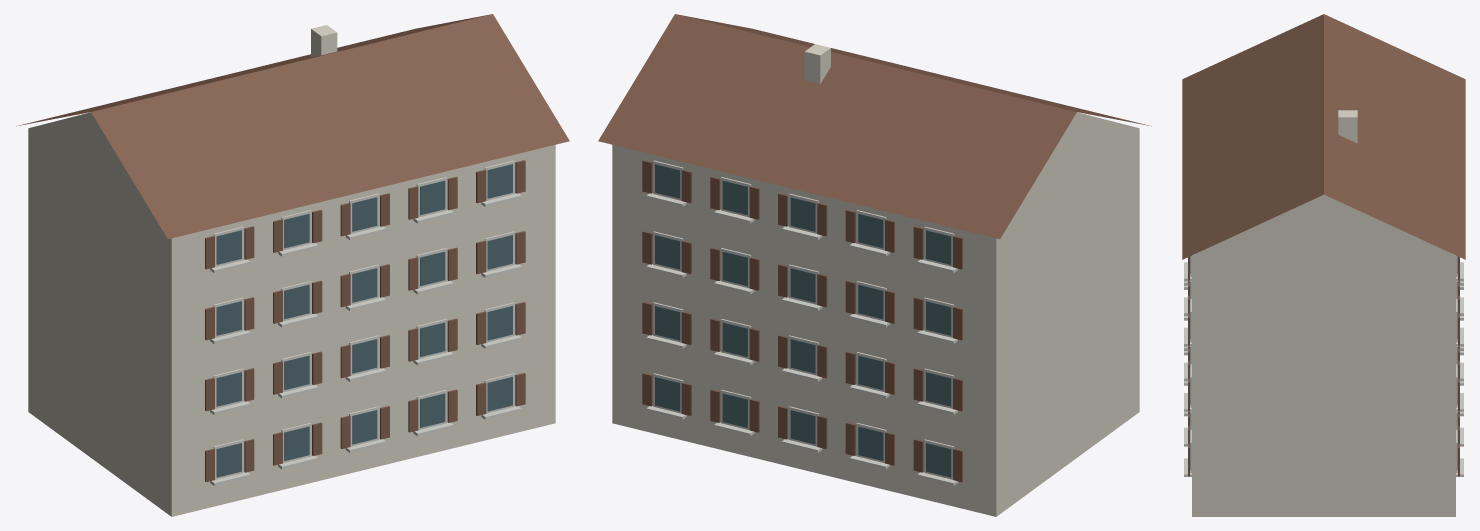
The model's file is House_2_LOD0.glb.
3 views of the same model, side by side, from view 1: azimuth 30°, elevation 25°; view 2: azimuth 150°, elevation 25°; view 3: azimuth 270°, elevation 25° (orthographic). The views are drawn at different scales.
Parts seen in each view (by area): view 1: House_2_LOD0; view 2: House_2_LOD0; view 3: House_2_LOD0.
Part boxes in pixels (x1,y1,x2,y2): House_2_LOD0: [16, 14, 569, 516]; House_2_LOD0: [598, 14, 1151, 516]; House_2_LOD0: [1182, 14, 1465, 516].
Bounding box in the file's own units: 17.8 × 15.5 × 11.8.
